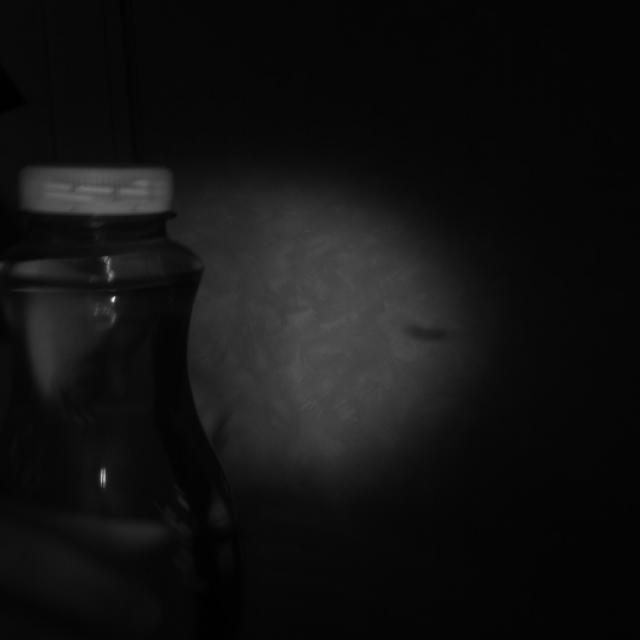Good: (18, 164, 174, 217)
